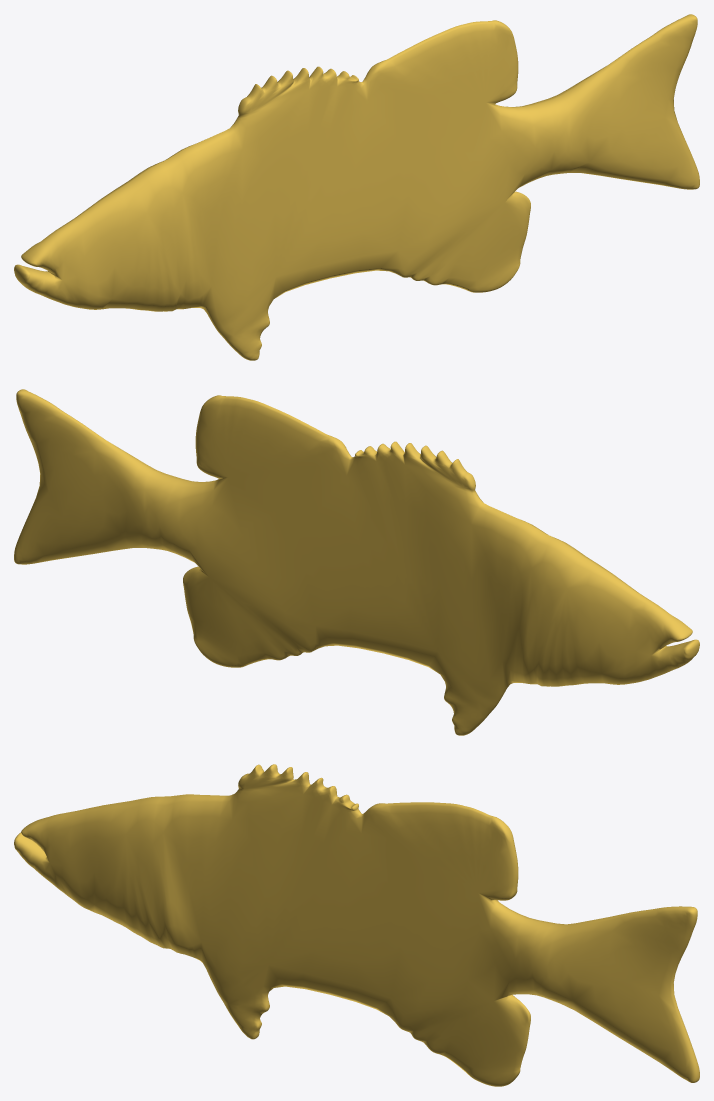
Rendered from fish.fbx.
The picture shows the model from 3 angles, top to bottom: view 1: azimuth 30°, elevation 25°; view 2: azimuth 150°, elevation 25°; view 3: azimuth 330°, elevation 25°; orthographic projection.
Parts seen in each view (by area): view 1: Fish; view 2: Fish; view 3: Fish.
Boxes of the visible parts, x1=… form: Fish: x1=14, y1=14, x2=699, y2=360; Fish: x1=14, y1=389, x2=699, y2=735; Fish: x1=14, y1=764, x2=699, y2=1086.
Size of the model in its own units: 943 by 376 by 57.85.
